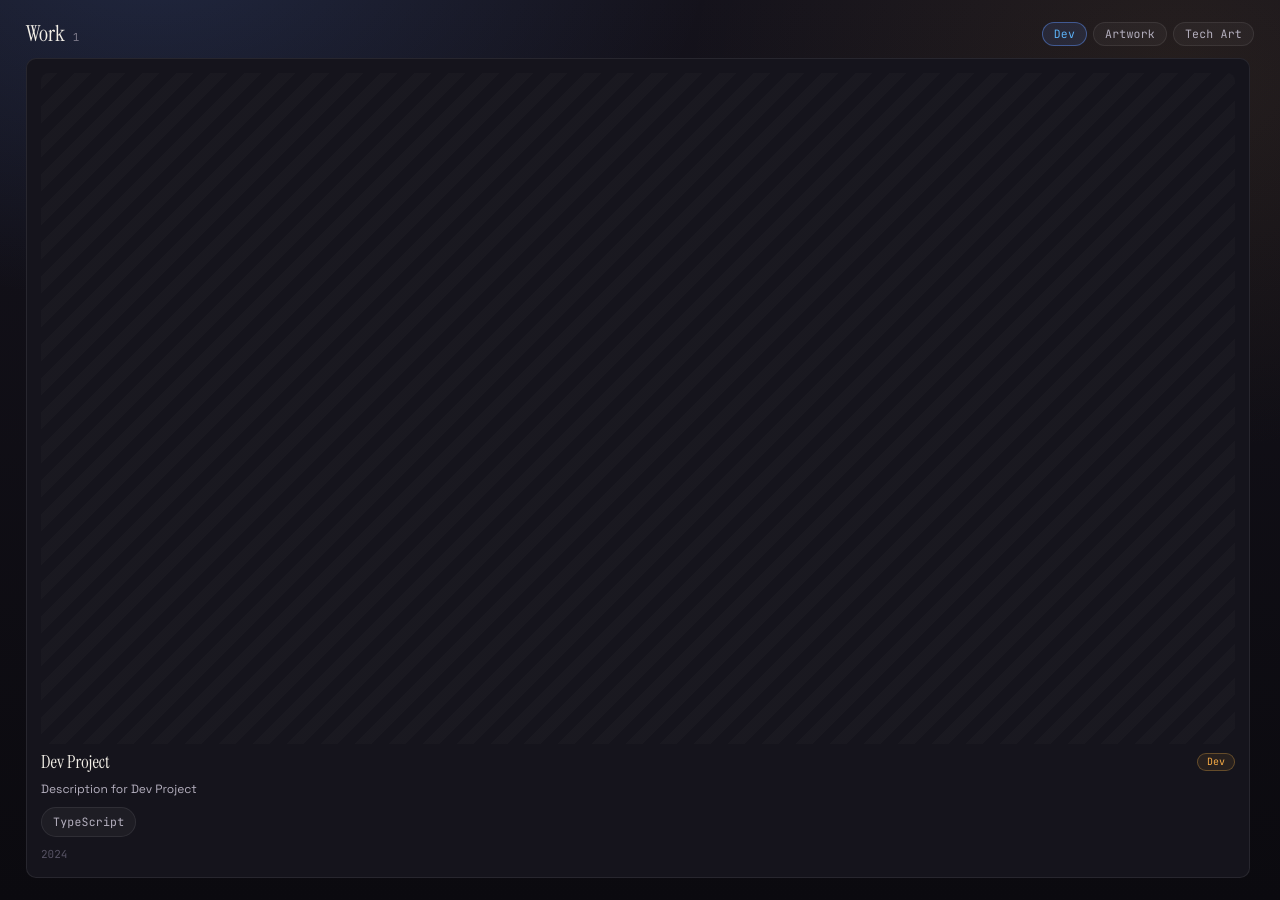
DashboardWorkGrid › category filter tabs › returns to showing only Dev projects when switching back to "Dev"
Click the button "Artwork".
click(1130, 34)  # box x1=1093 y1=22 x2=1167 y2=46
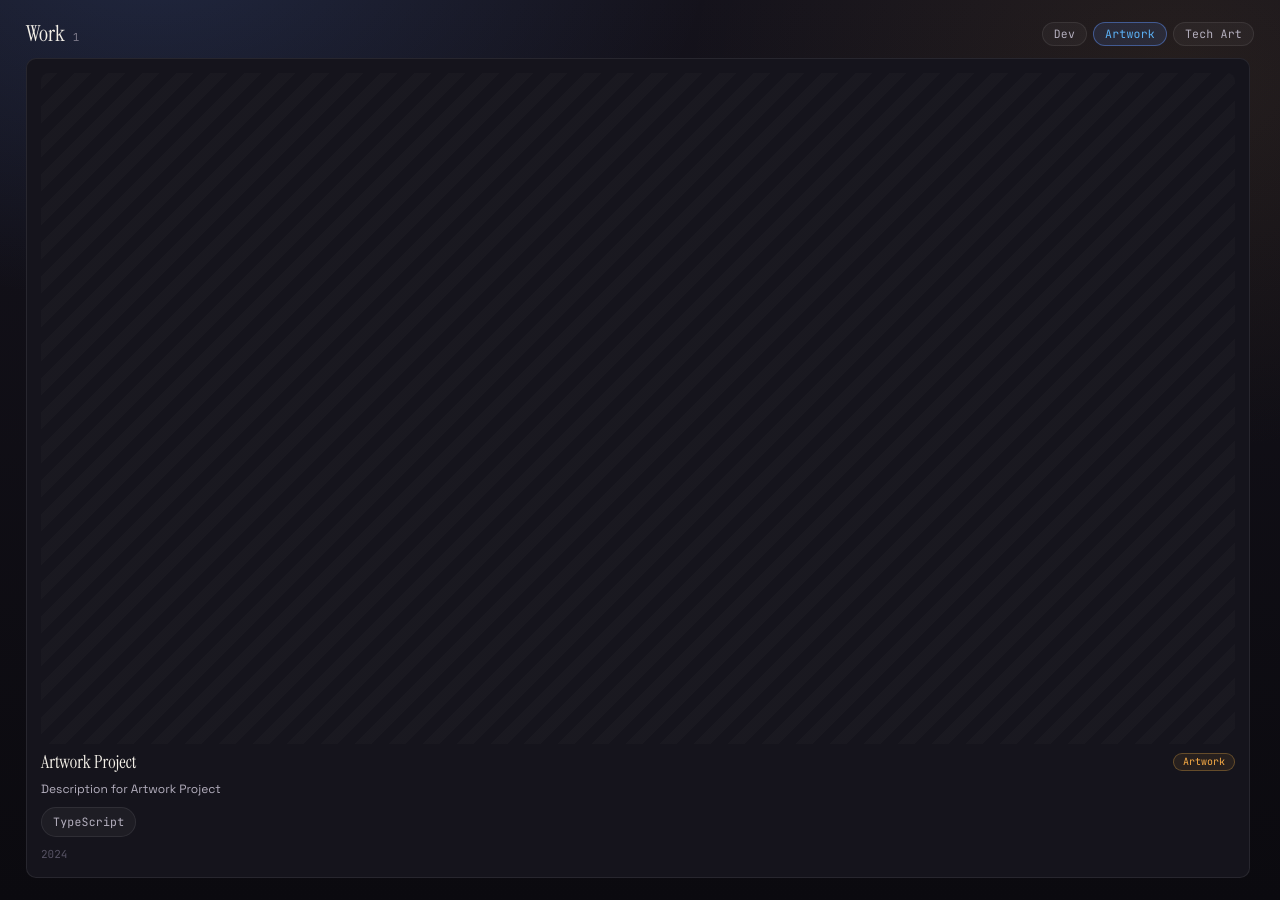
Check: the heading "Dev Project" is gone
Click the button "Dev".
click(1064, 34)  # box x1=1042 y1=22 x2=1087 y2=46
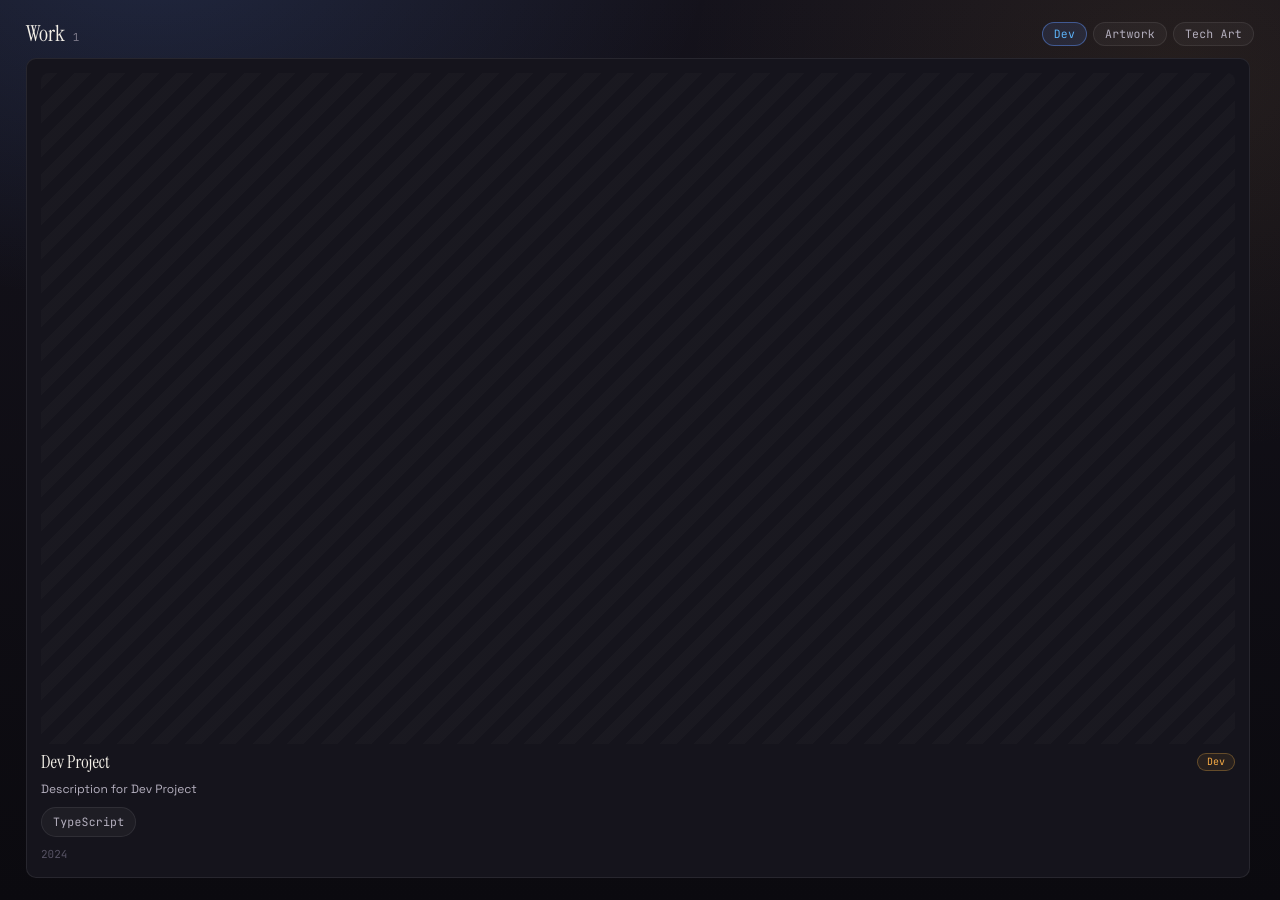
Check: the heading "Dev Project" is shown, box x1=41 y1=753 x2=110 y2=771
Check: the heading "Artwork Project" is gone
